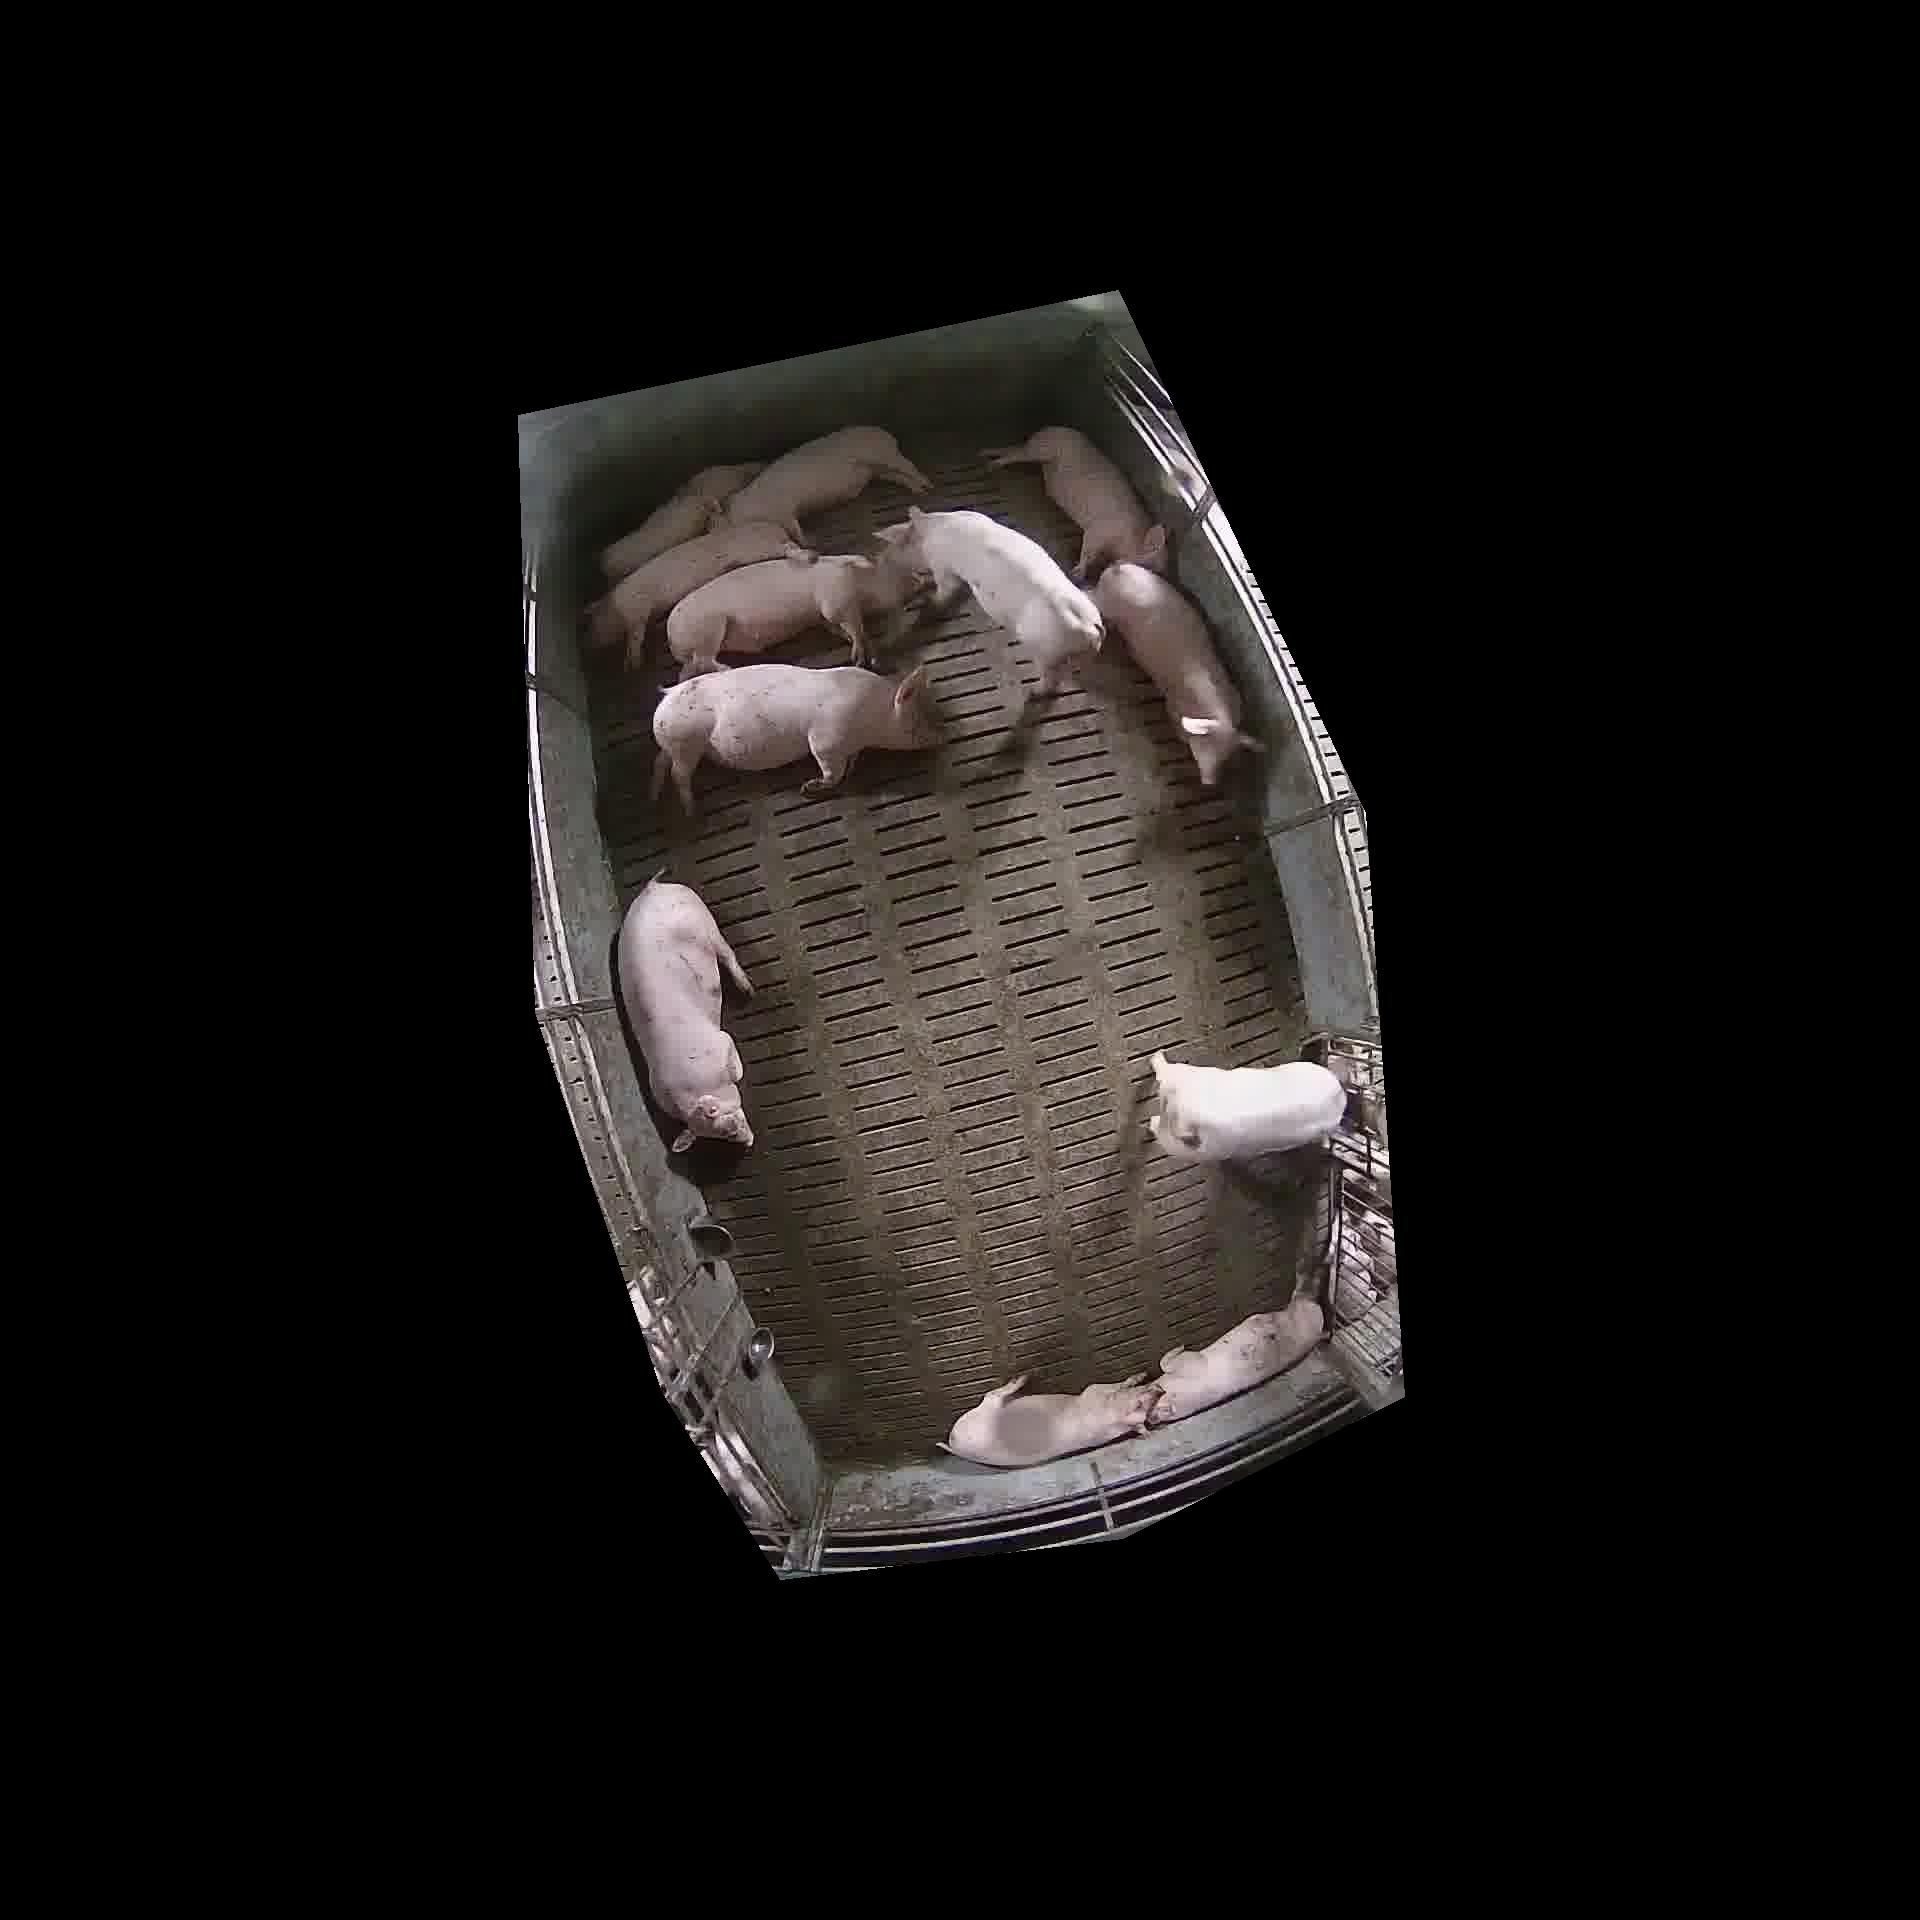pig: (877, 506, 1104, 696), (652, 665, 942, 812), (1088, 559, 1254, 788), (617, 879, 753, 1152), (585, 522, 805, 666), (666, 556, 920, 679), (983, 427, 1166, 577), (724, 425, 928, 542), (1150, 1296, 1324, 1422), (1150, 1051, 1345, 1162), (598, 462, 761, 582), (948, 1377, 1159, 1466)
